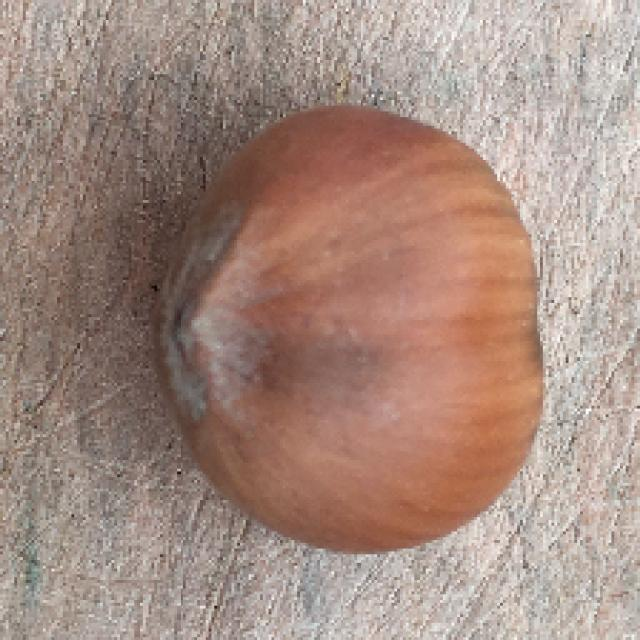damagedHazelnut: (160, 95, 555, 551)
